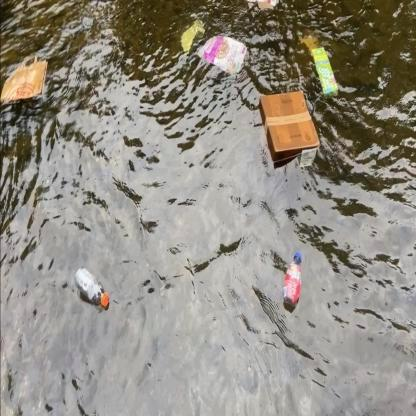Metal: (178, 16, 205, 55)
Plastic: (72, 262, 112, 314), (282, 249, 304, 310)
Trash: (0, 51, 50, 111)
